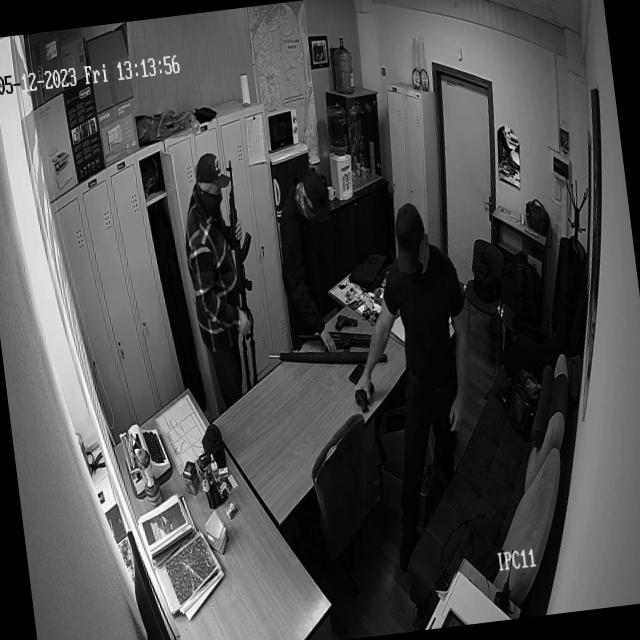gun: (221, 157, 264, 341), (294, 323, 372, 358), (353, 382, 378, 414), (332, 310, 359, 334)
person with a gun: (334, 183, 485, 562), (175, 129, 260, 417), (270, 161, 350, 346)
